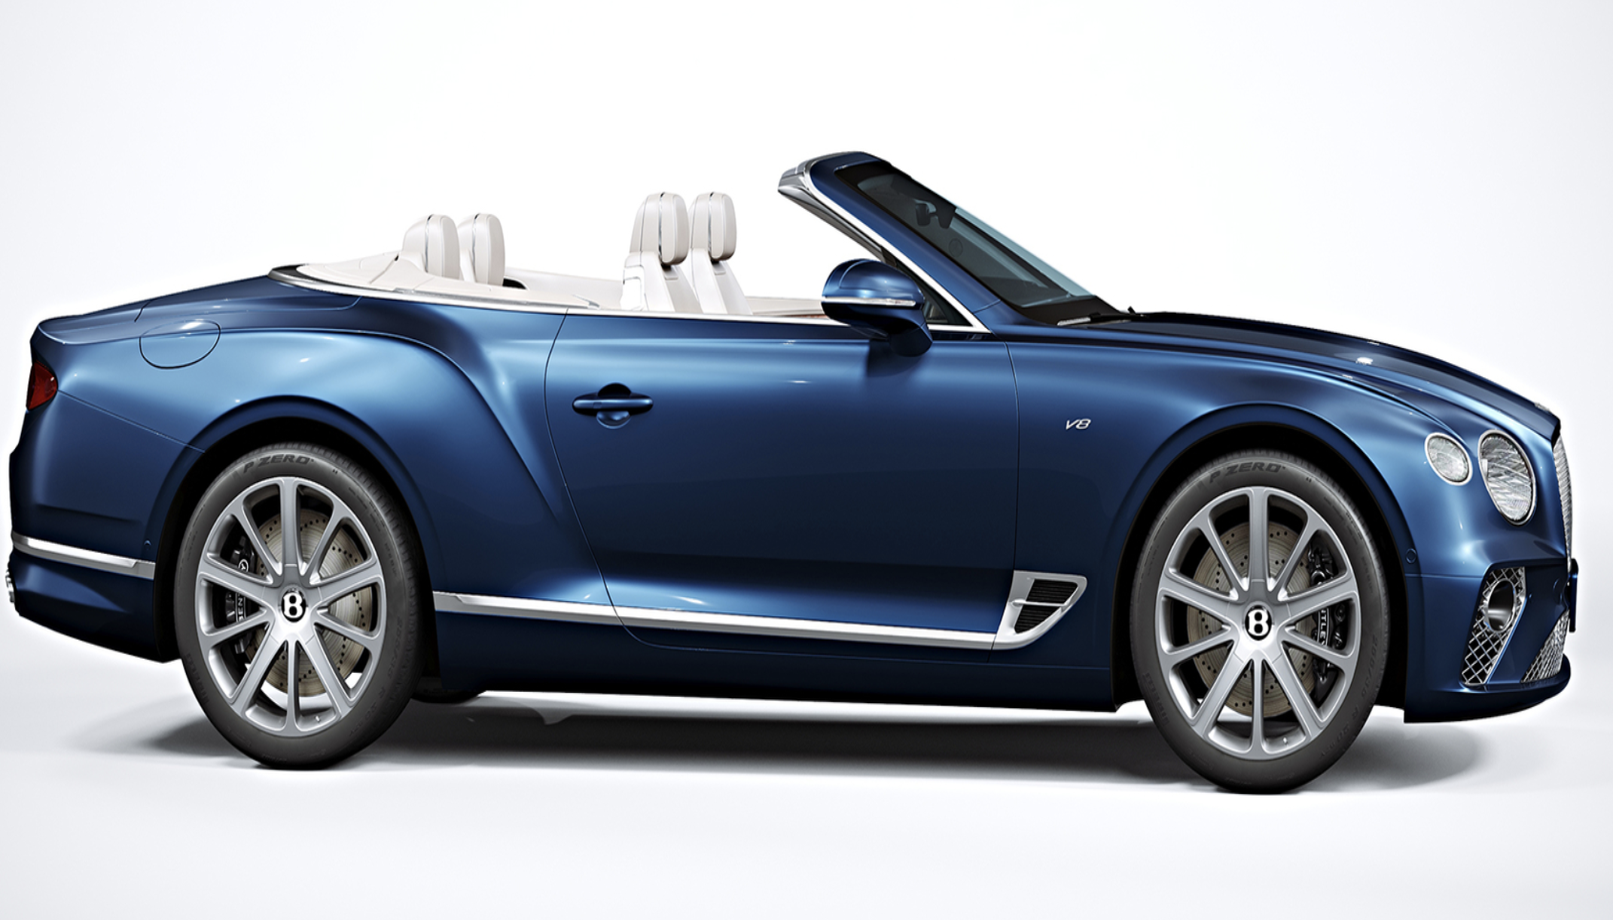hatch: (136, 316, 228, 374)
